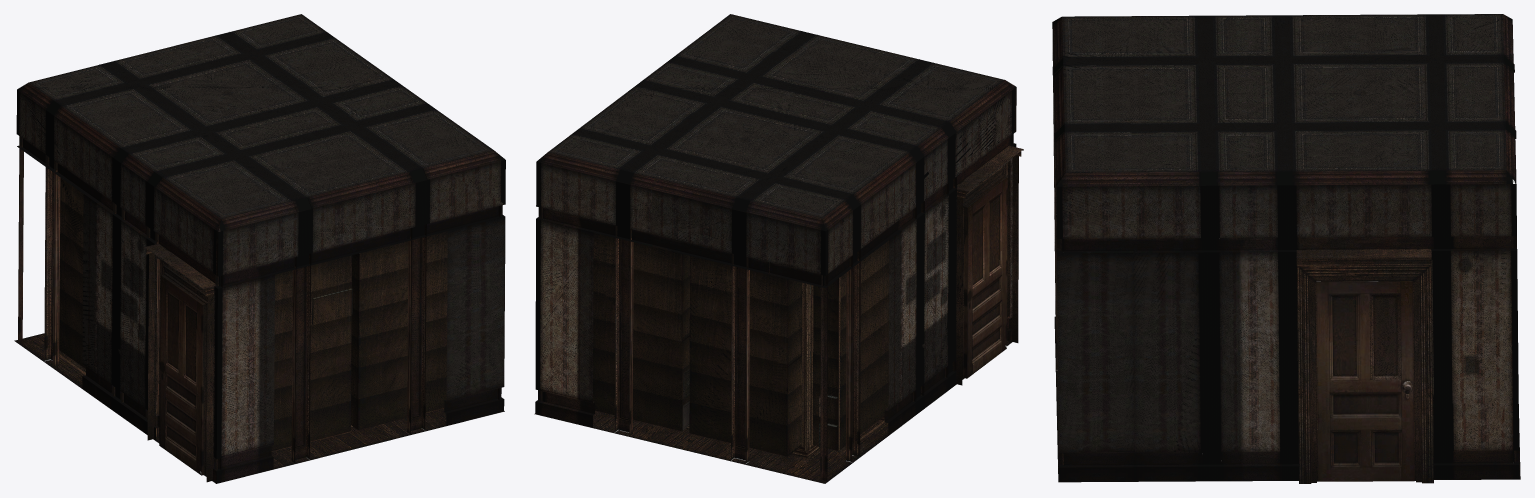
Rendered from Silent+Hill+2+-+Baldwin+Study+Room+-+Normal.dae.
The picture shows the model from 3 angles, left to right: view 1: azimuth 30°, elevation 25°; view 2: azimuth 150°, elevation 25°; view 3: azimuth 270°, elevation 25°; orthographic projection. The views are drawn at different scales.
Parts seen in each view (by area): view 1: skpD93F (×14); view 2: skpD93F (×12); view 3: skpD93F (×9).
Boxes of the visible parts, left/top/right/bottom form: skpD93F (×14): left=14, top=14, right=505, bottom=483; skpD93F (×12): left=534, top=14, right=1023, bottom=483; skpD93F (×9): left=1052, top=14, right=1520, bottom=483.
Bounding box in the file's own units: 106 × 118 × 84.97.
